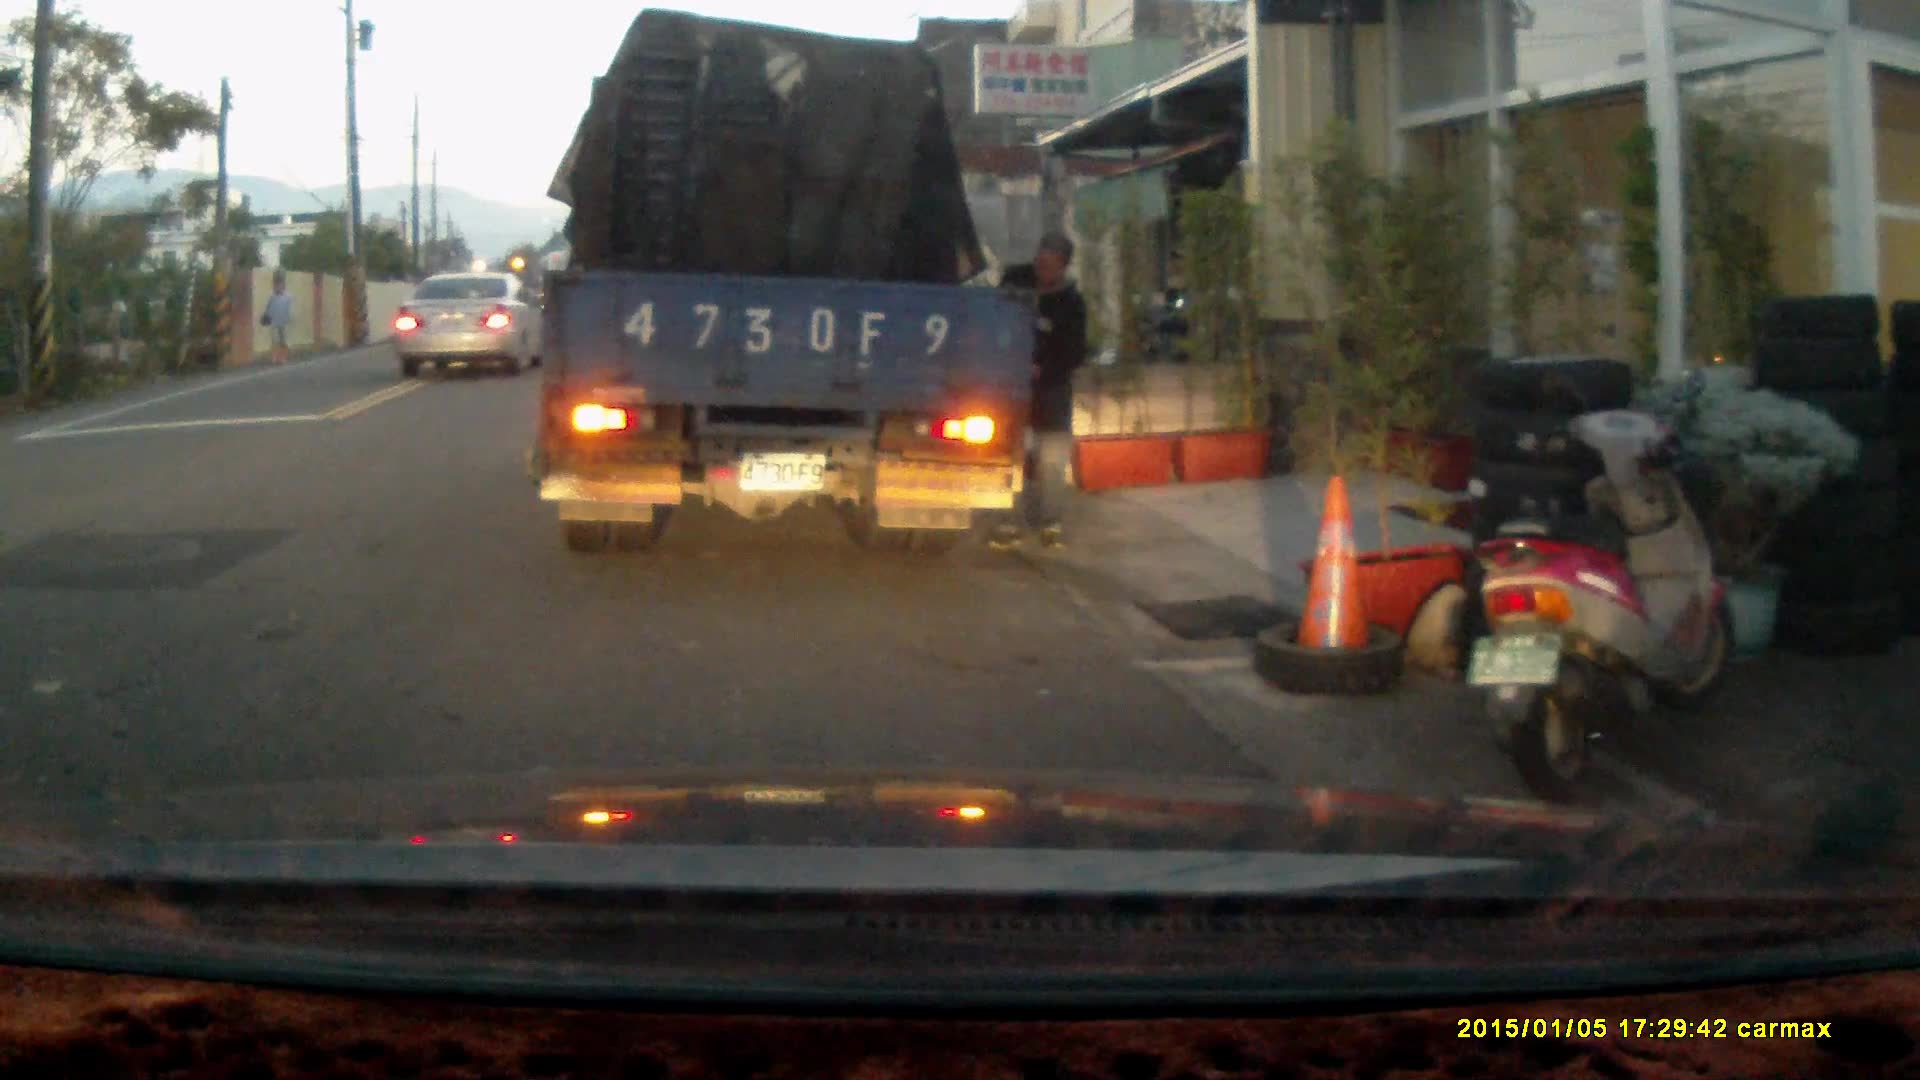pedestrian: (982, 230, 1082, 557), (253, 270, 293, 363)
vehicle: (531, 26, 1020, 550), (397, 270, 554, 375)
